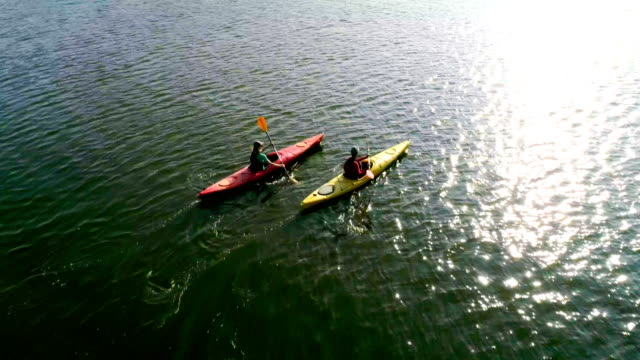kayaker: (197, 115, 325, 206), (298, 139, 413, 207)
